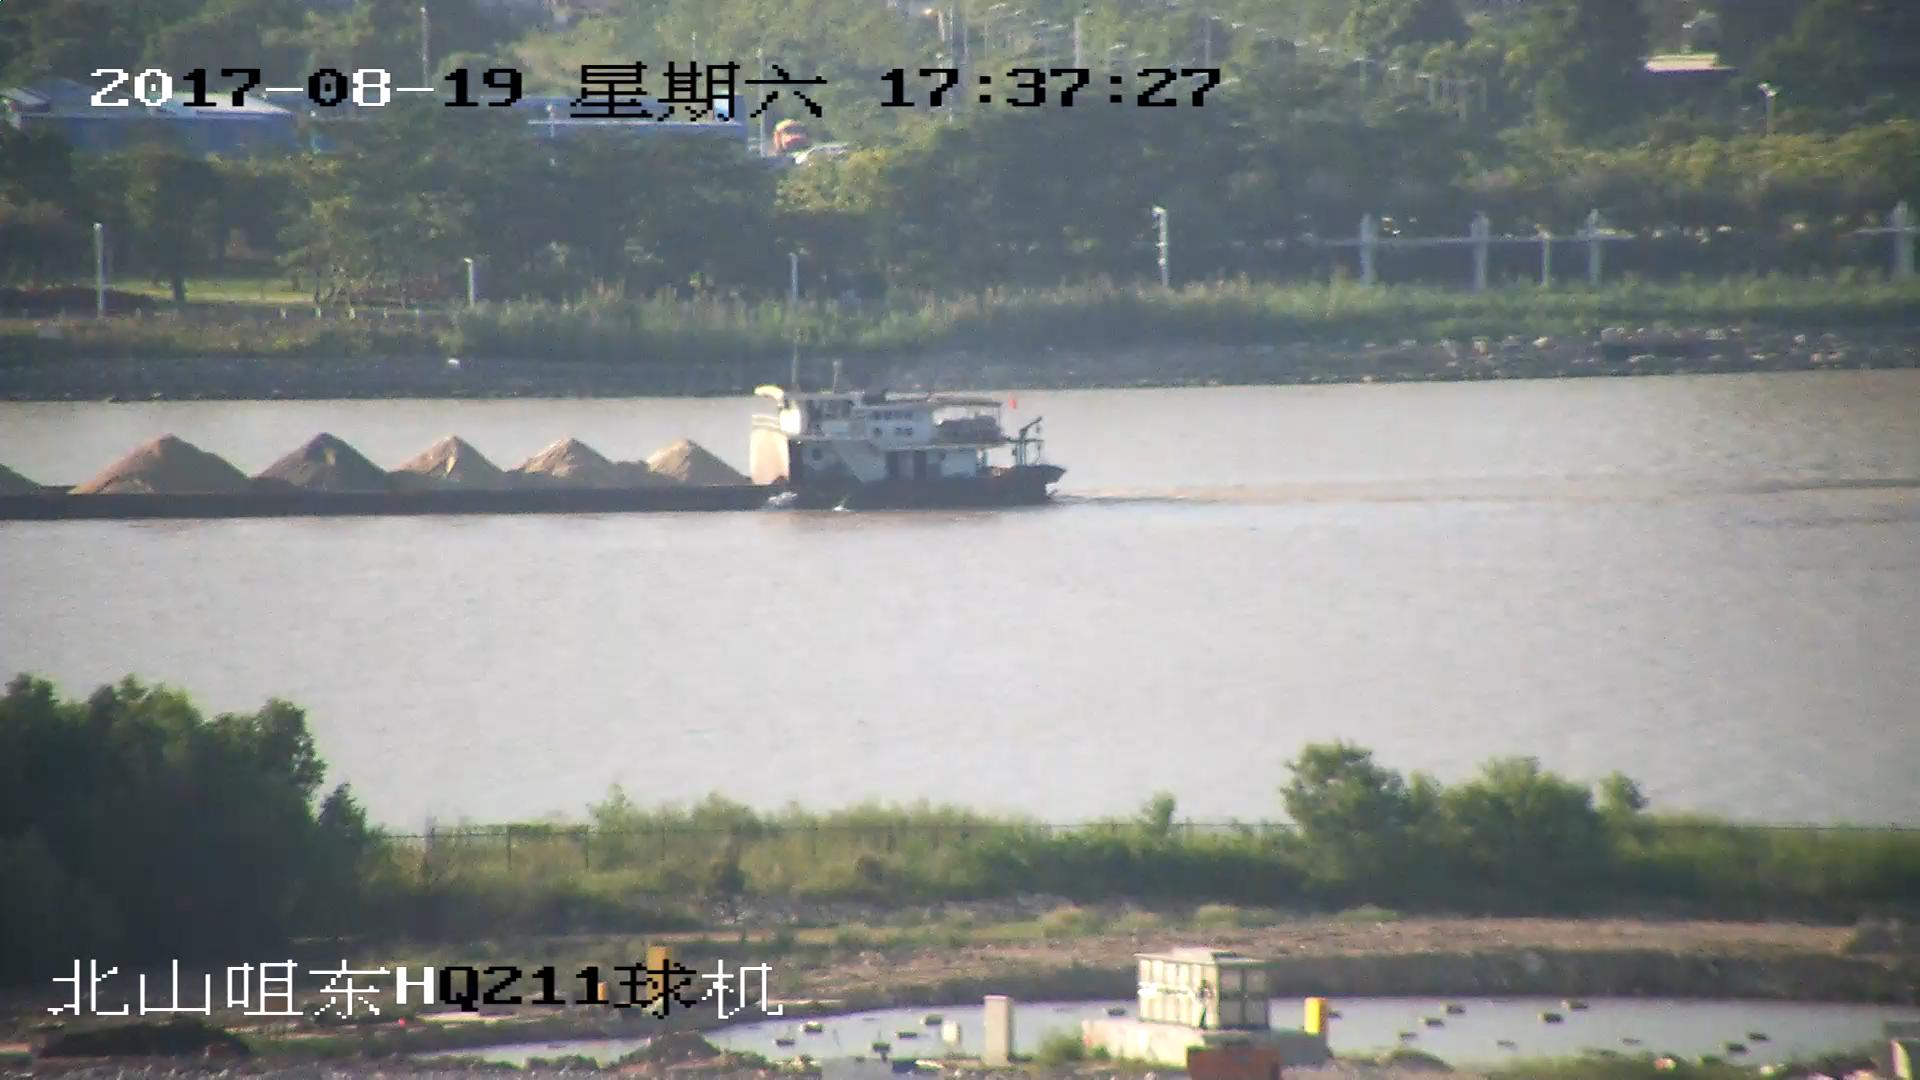ore carrier: (1, 357, 1060, 520)
